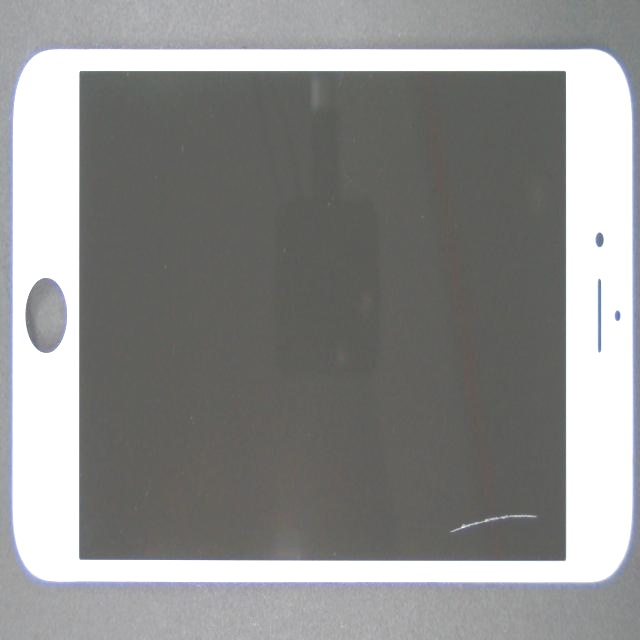scratch: (329, 230, 640, 640)
